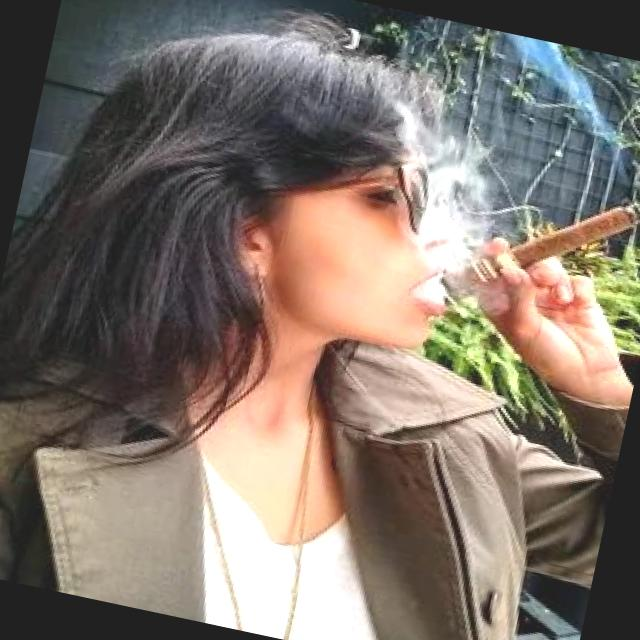smoke: (437, 166, 640, 327)
